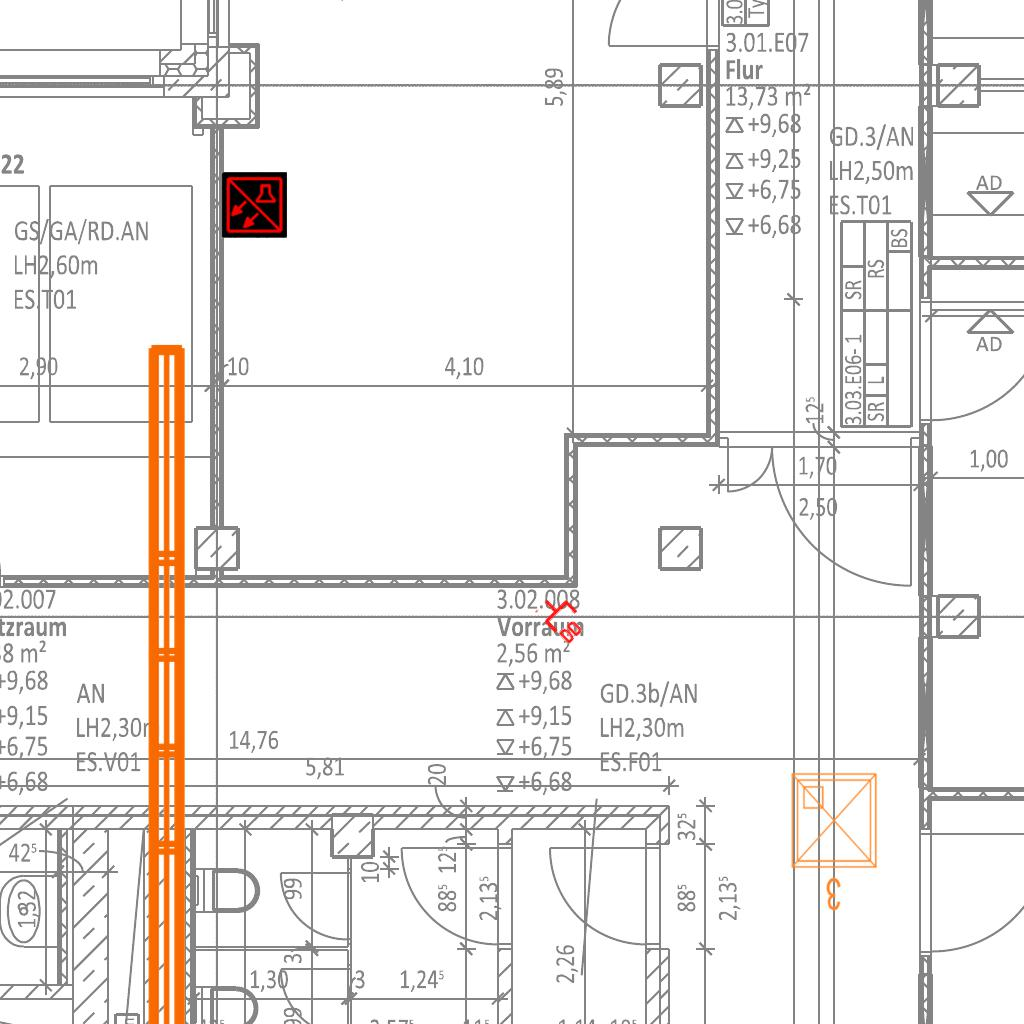Ambulanz_Pendelleuchte_LED: (136, 334, 248, 1024)
Datenanschluss_zweifach: (533, 587, 593, 648)
Einbaudownlights_LED_Konferenzraeume: (784, 766, 888, 916)
OKW_Multisensormelder_(Kombination_optischer_Rauch-Kahlenmonoxid_Waerme-Melder): (221, 172, 287, 238)
